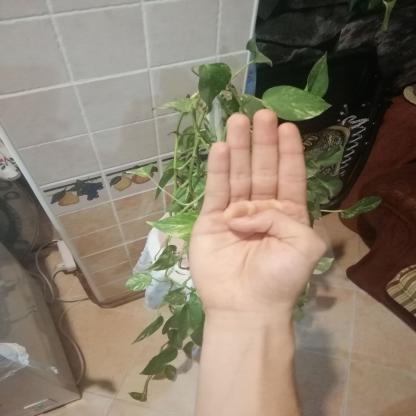KAAF: (168, 98, 343, 330)
